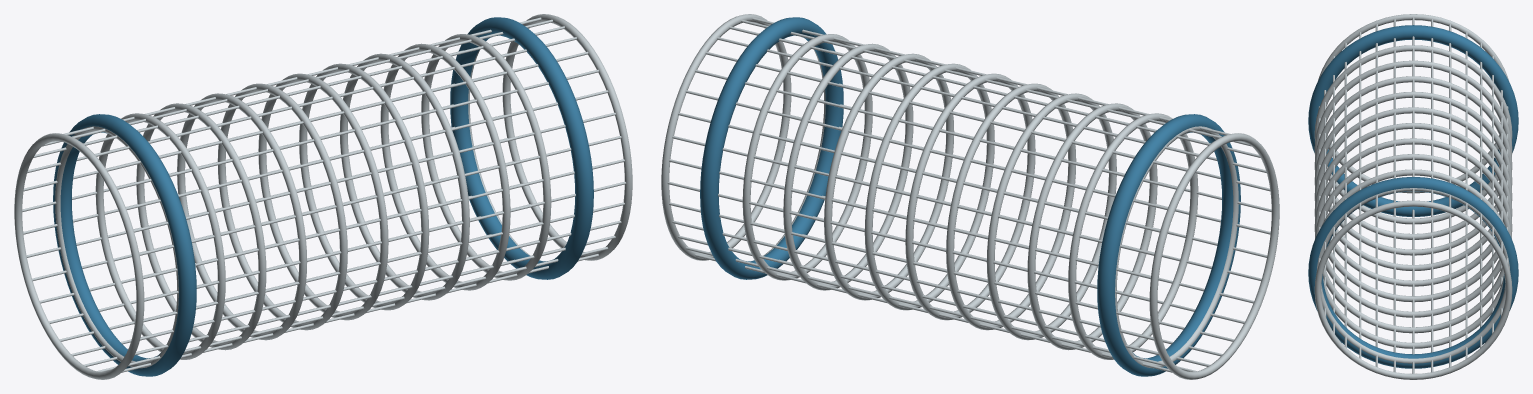
Rendered from recycling-centre-and-material-sorting-sorting-screen-d-074a6f02__31112.glb.
3 renders of one model, left to right at view 1: azimuth 30°, elevation 25°; view 2: azimuth 150°, elevation 25°; view 3: azimuth 270°, elevation 25°, orthographic. The views are drawn at different scales.
Parts seen in each view (by area): view 1: sorting-screen-drum; view 2: sorting-screen-drum; view 3: sorting-screen-drum.
Boxes of the visible parts, <box> form: sorting-screen-drum: <box>14,14,632,379</box>; sorting-screen-drum: <box>661,14,1279,379</box>; sorting-screen-drum: <box>1308,14,1518,379</box>.
Bounding box in the file's own units: 3.04 × 1.43 × 1.43.
